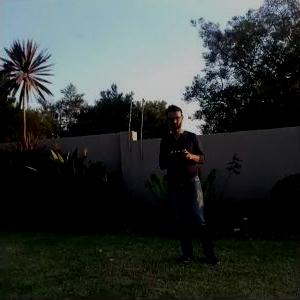follow: (155, 100, 224, 266)
